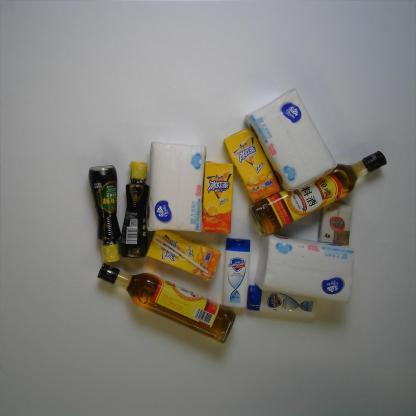Drink: (223, 127, 283, 204), (145, 226, 222, 282), (200, 160, 235, 234)
Personal Hygiene: (245, 284, 318, 320), (220, 236, 252, 309)
Seasoner: (248, 149, 388, 236), (96, 262, 236, 344), (86, 164, 122, 265), (119, 160, 150, 264)
Tissue: (241, 87, 340, 194), (252, 233, 356, 304), (145, 140, 208, 233), (316, 202, 353, 245)
